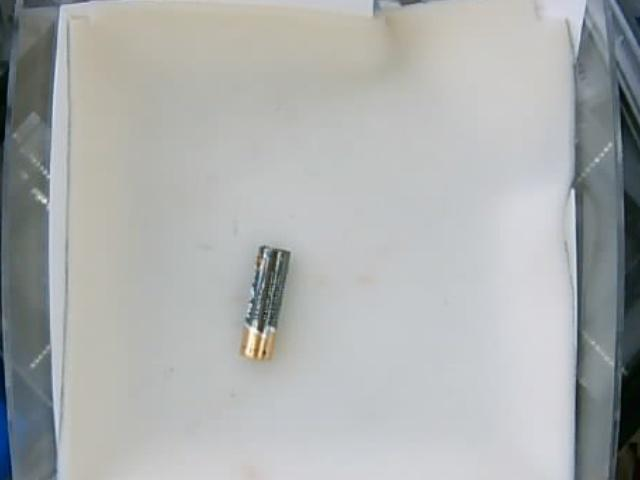Battery: (239, 247, 291, 359)
